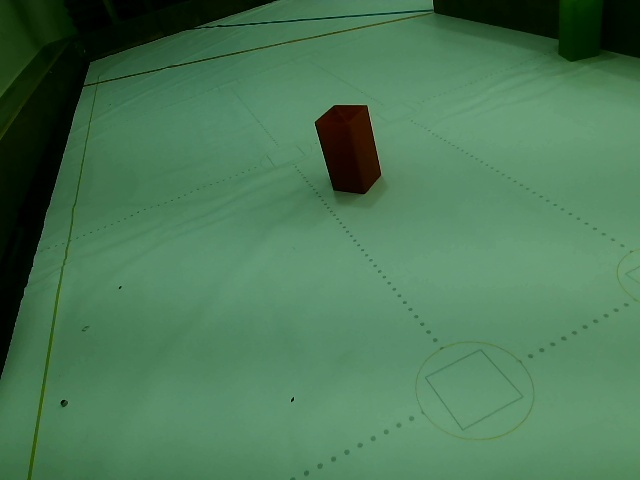red: (321, 108, 378, 195)
